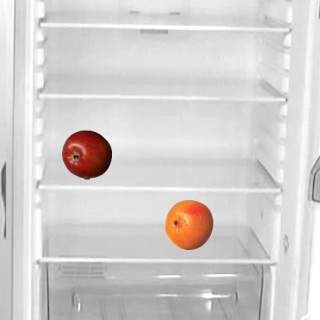Apple Braeburn: (61, 129, 111, 179)
Grapefruit Pink: (163, 199, 213, 249)
